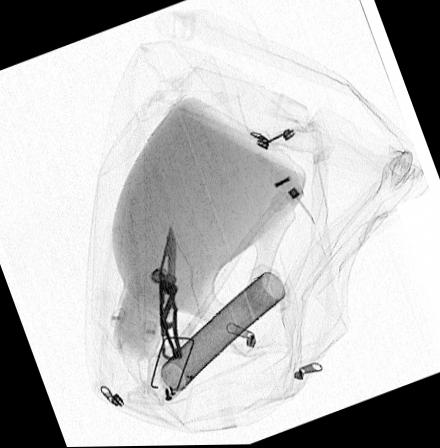Knife: (158, 224, 184, 361)
